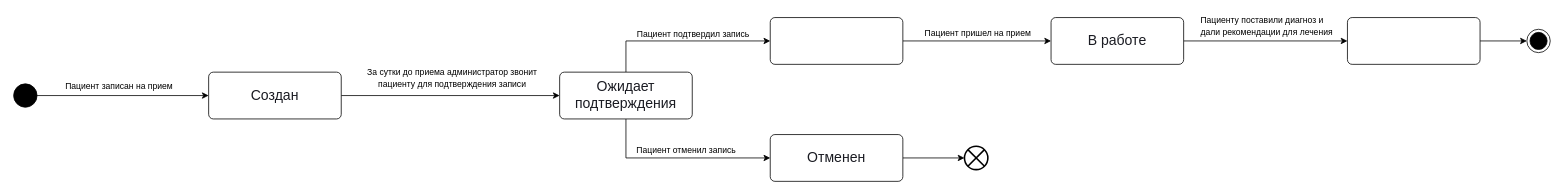
Some shapes in this 1564 by 196 pixel diagram are drawn without their labels. Each missing label, with the box of its shape:
Завершен: (1347, 17, 1480, 64)
Подтвержден: (769, 17, 903, 64)
